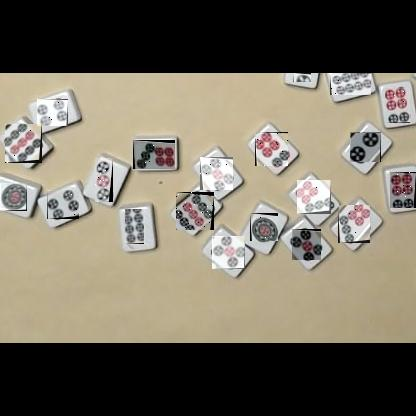1p: (250, 213, 278, 241), (0, 183, 27, 211)
2p: (350, 132, 381, 162), (293, 73, 311, 82)
3p: (95, 158, 113, 202)
4p: (47, 190, 79, 219), (37, 99, 68, 126)
5p: (200, 157, 233, 190), (212, 236, 245, 269), (292, 229, 321, 260)
6p: (255, 132, 288, 166), (384, 87, 410, 123), (390, 172, 416, 208)
7p: (133, 140, 175, 169), (338, 205, 370, 243), (297, 180, 331, 214)
8p: (330, 73, 371, 95), (126, 210, 149, 249)
9p: (176, 192, 214, 230), (5, 124, 42, 163)
